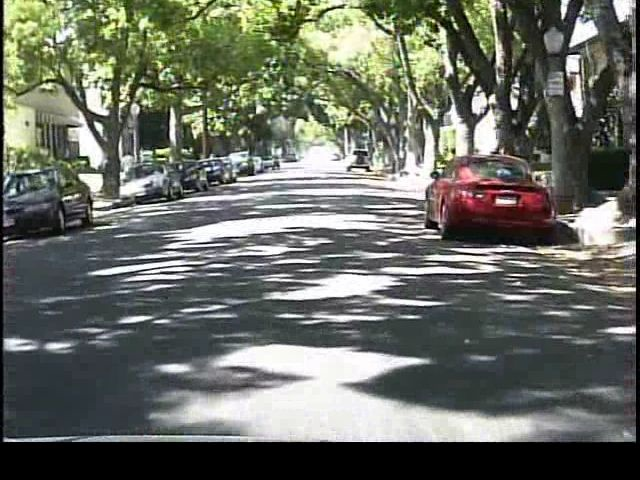person: (119, 147, 141, 195)
